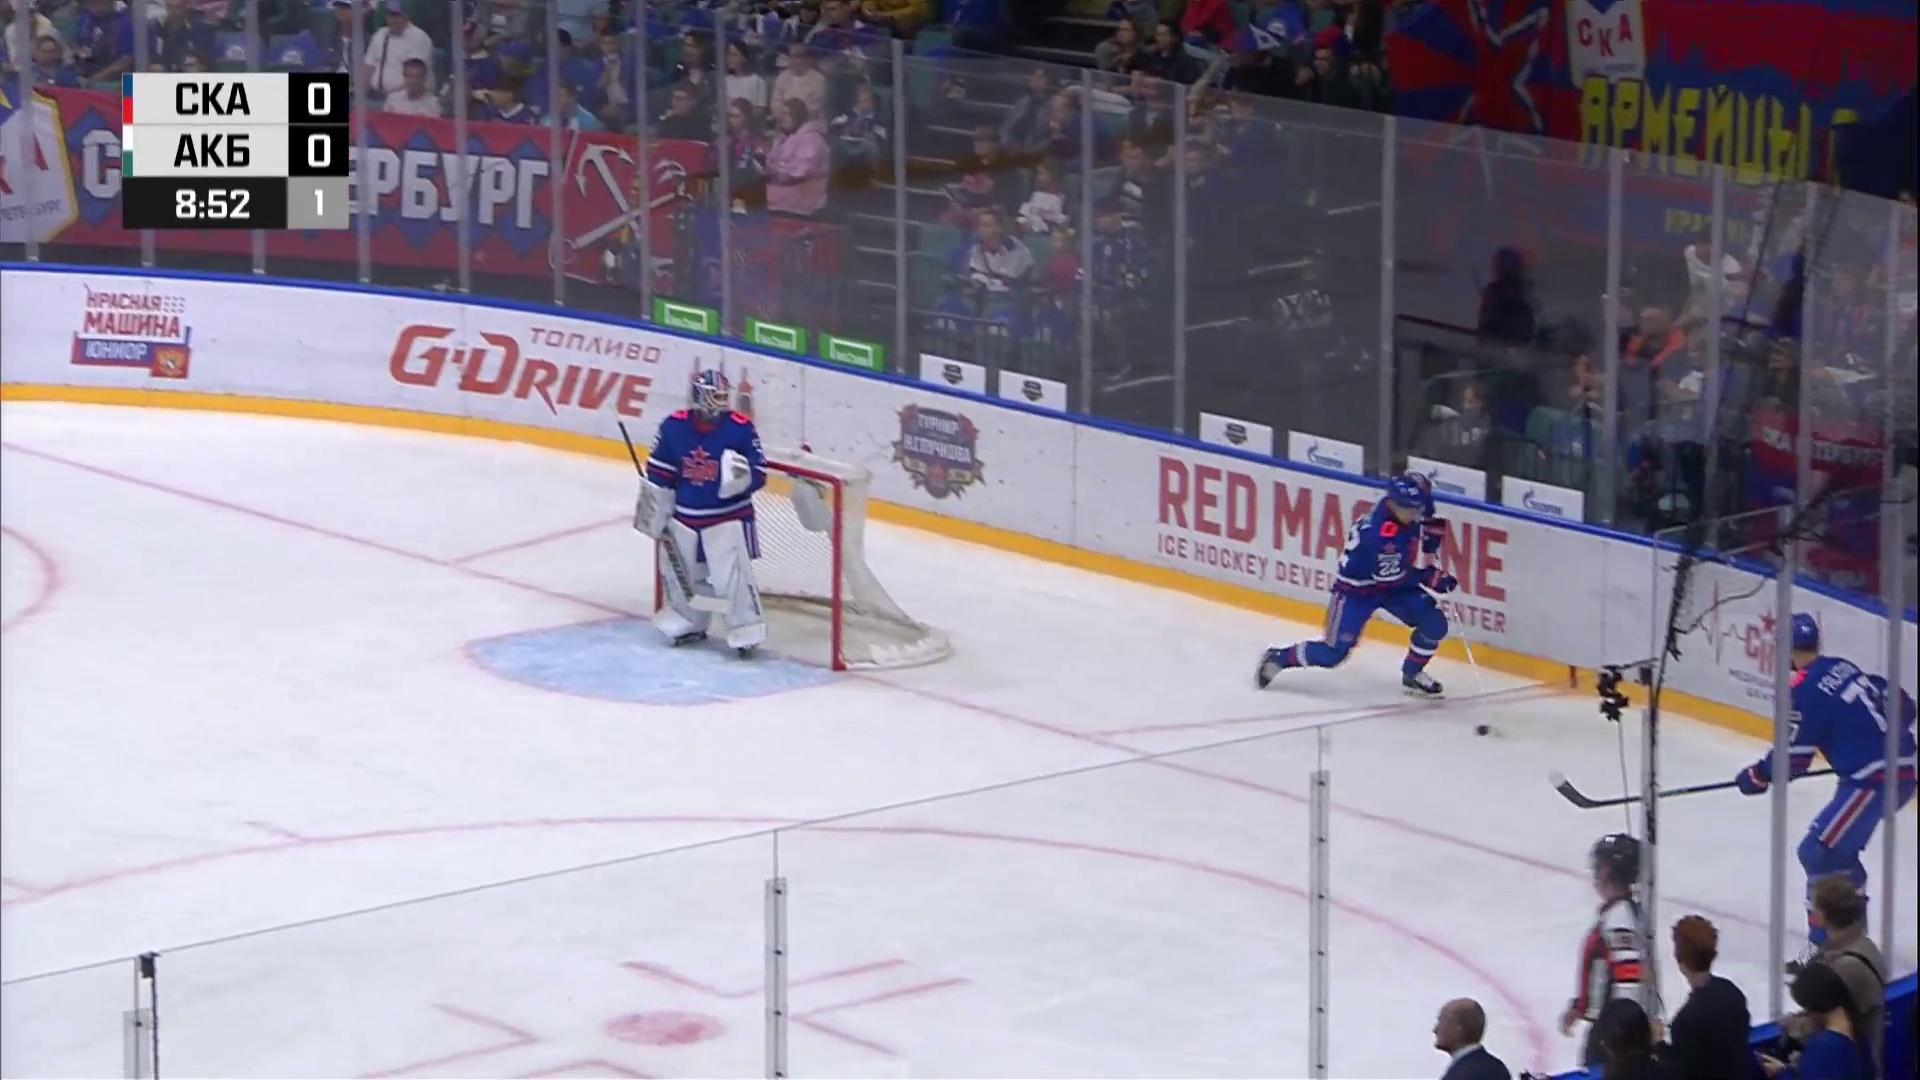ball: (1476, 724, 1490, 736)
